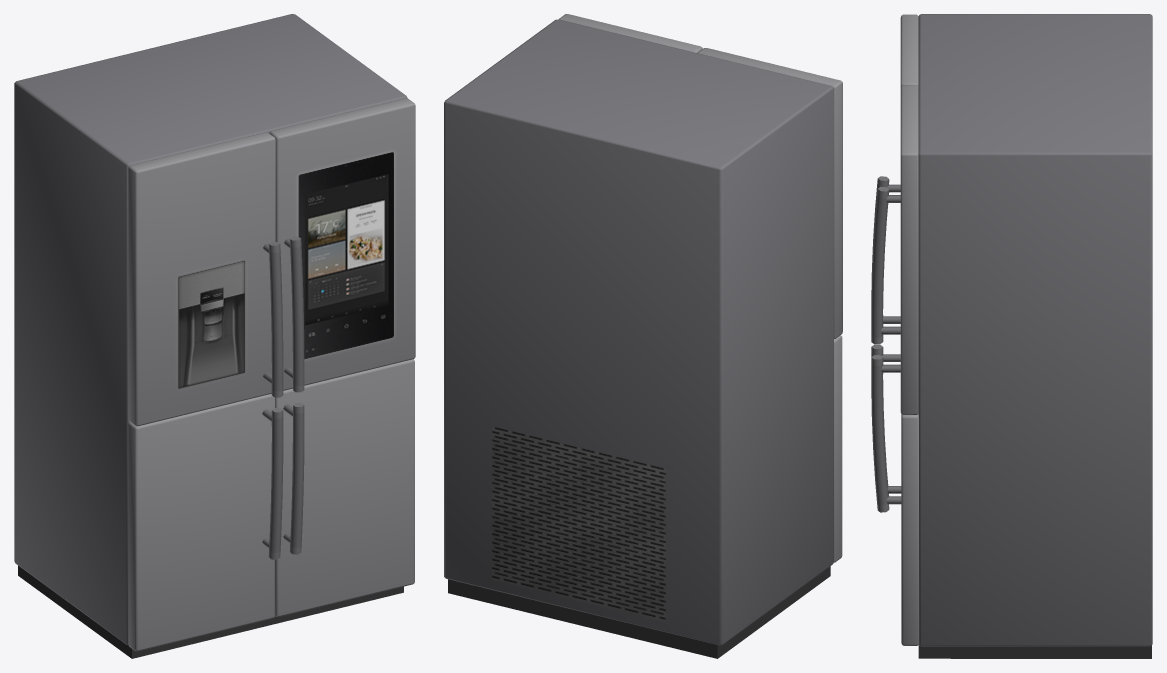
File: refrigerator.FBX
The picture shows the model from 3 angles, left to right: view 1: azimuth 30°, elevation 25°; view 2: azimuth 150°, elevation 25°; view 3: azimuth 270°, elevation 25°; orthographic projection. The views are drawn at different scales.
Visible parts, largest first — view 1: refrigerator; view 2: refrigerator; view 3: refrigerator.
Boxes of the visible parts, x1,y1,x2,y2 form: refrigerator: (14,14,415,658); refrigerator: (444,14,842,658); refrigerator: (871,14,1152,658).
Bounding box in the file's own units: 39.36 × 33.32 × 66.31.
